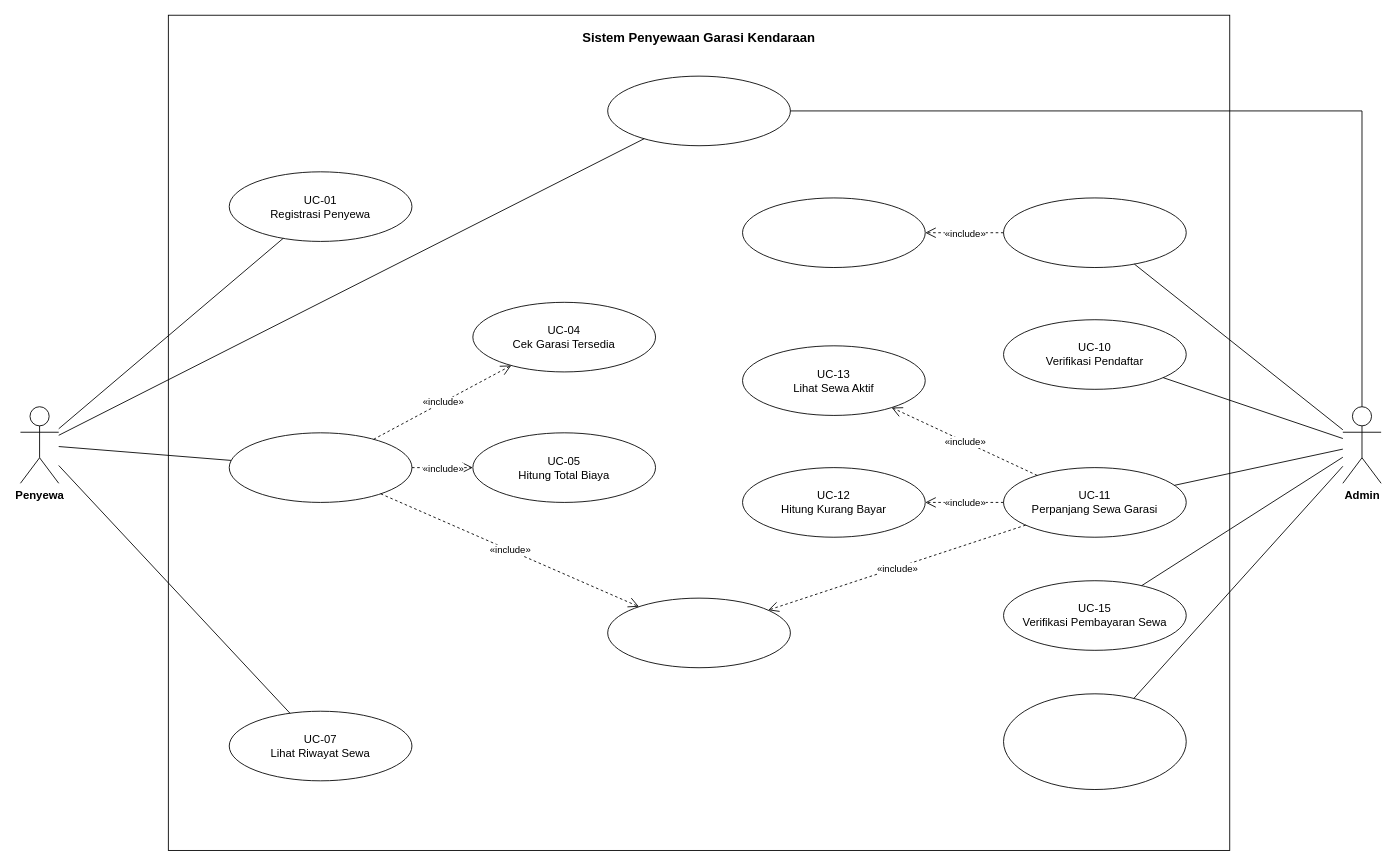
Image size: 1396x866. Some labels were removed from this diagram. The shapes that lost their labels are listed below. From the top down, each one's centre as x and y in pixels, then its label:
At pixel 698 110: "UC-02 Login / Logout".
At pixel 833 232: "UC-09 Buat Kode Garasi Otomatis".
At pixel 1094 232: "UC-08 Buat Garasi Berkelompok".
At pixel 320 467: "UC-03 Sewa Baru Garasi".
At pixel 698 632: "UC-06 Unggah Bukti Bayar".
At pixel 1094 741: "UC-14 Lihat Laporan Sewa (per bulan, per hari, per tipe, per penyewa)".
